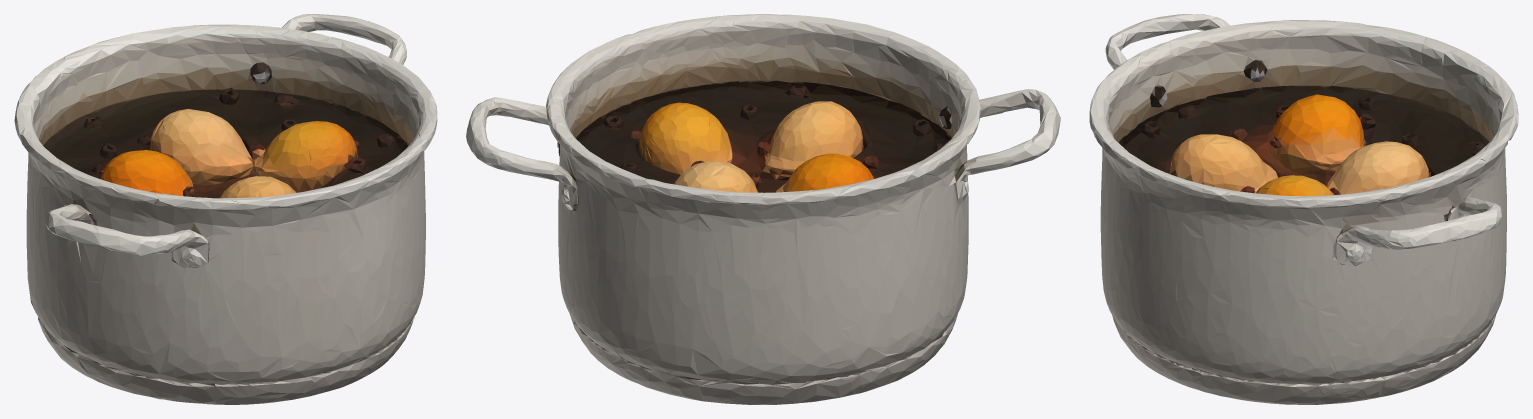
Rendered from pot_eggs.glb.
3 renders of one model, left to right at view 1: azimuth 30°, elevation 25°; view 2: azimuth 150°, elevation 25°; view 3: azimuth 270°, elevation 25°, orthographic. The views are drawn at different scales.
Visible parts, largest first — view 1: geometry_0; view 2: geometry_0; view 3: geometry_0.
Part boxes in pixels (<box>): geometry_0: <box>14,14,437,404</box>; geometry_0: <box>466,14,1060,404</box>; geometry_0: <box>1089,14,1518,404</box>.
Size of the model in its own units: 0.24 by 0.1099 by 0.1936.
Materials: 1 (1 with a texture image).
